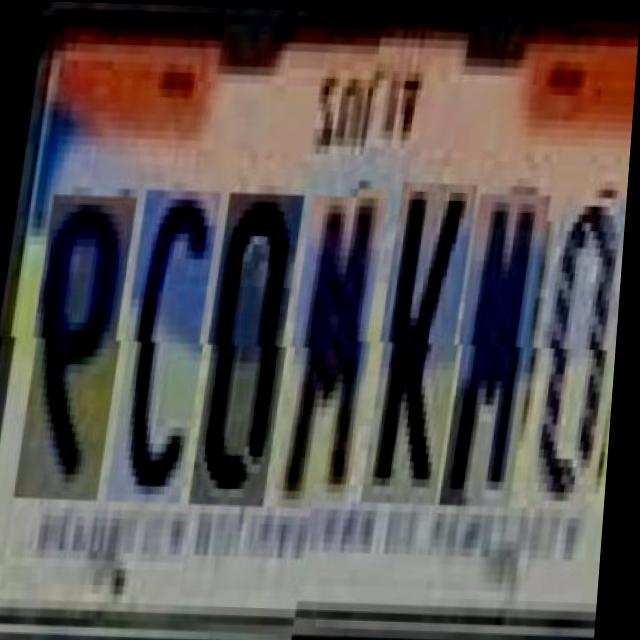0: (194, 181, 305, 497), (525, 192, 630, 508)
6: (19, 186, 138, 492)
c: (111, 179, 223, 495)
k: (365, 179, 477, 501)
w: (277, 184, 388, 500), (444, 188, 551, 504)
